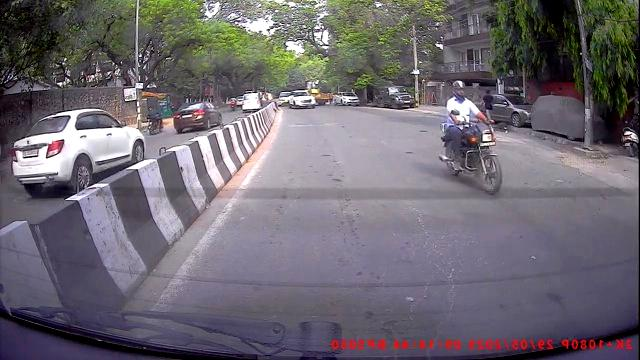motorcycle_with_helmet: (438, 79, 503, 195)
